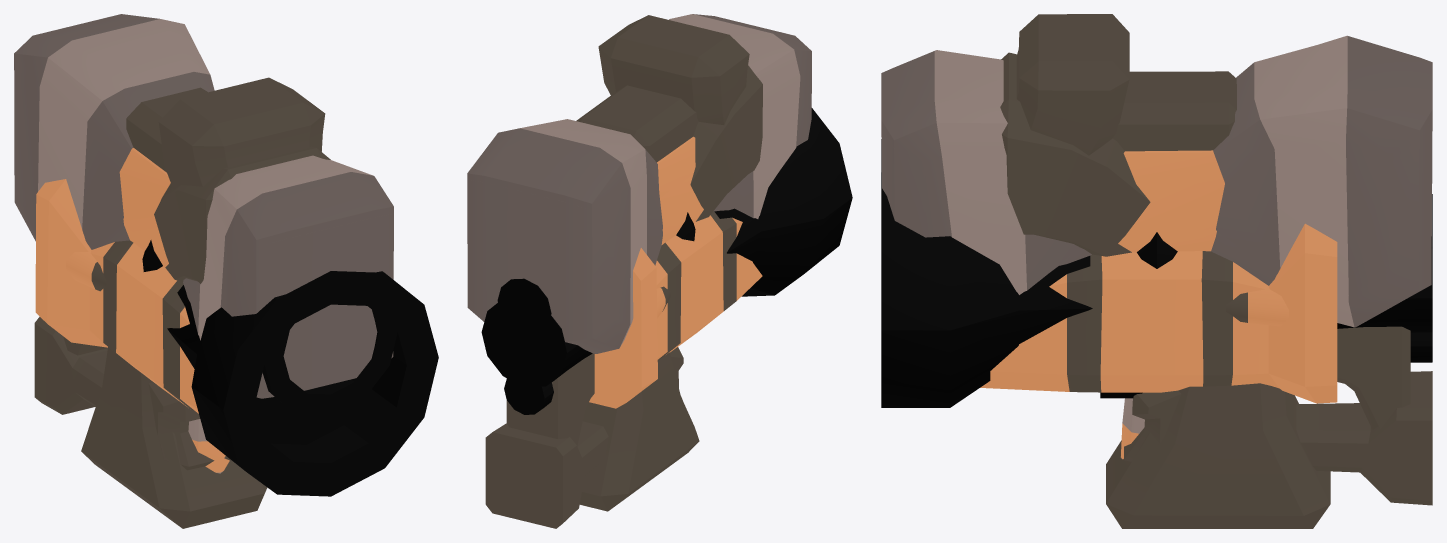
Rendered from GunParts.fbx.
The picture shows the model from 3 angles, left to right: view 1: azimuth 30°, elevation 25°; view 2: azimuth 150°, elevation 25°; view 3: azimuth 270°, elevation 25°; orthographic projection. The views are drawn at different scales.
Visible parts, largest first — view 1: MidGrip, SingleBarrel, Grip, BigGrip, Mag, DoubleBarrel, RibGrip, RoundMag; view 2: MidGrip, Grip, BigGrip, SingleBarrel, Mag, RibGrip, DoubleBarrel; view 3: MidGrip, Grip, Mag, SingleBarrel, BigGrip, RibGrip, RoundMag, DoubleBarrel, Scope.
Boxes of the visible parts, left/top/right/bottom form: MidGrip: left=14, top=14, right=393, bottom=414; SingleBarrel: left=167, top=271, right=438, bottom=496; Grip: left=81, top=77, right=330, bottom=528; BigGrip: left=14, top=61, right=393, bottom=473; Mag: left=35, top=179, right=198, bottom=414; DoubleBarrel: left=262, top=274, right=397, bottom=415; RibGrip: left=126, top=87, right=230, bottom=470; RoundMag: left=66, top=251, right=106, bottom=291; MidGrip: left=467, top=14, right=811, bottom=528; Grip: left=579, top=15, right=762, bottom=511; BigGrip: left=467, top=59, right=811, bottom=445; SingleBarrel: left=481, top=108, right=852, bottom=387; Mag: left=589, top=211, right=762, bottom=408; RibGrip: left=576, top=85, right=698, bottom=387; DoubleBarrel: left=497, top=278, right=553, bottom=414; MidGrip: left=881, top=35, right=1432, bottom=505; Grip: left=1000, top=14, right=1330, bottom=528; Mag: left=980, top=223, right=1337, bottom=403; SingleBarrel: left=881, top=139, right=1432, bottom=407; BigGrip: left=881, top=117, right=1432, bottom=459; RibGrip: left=1113, top=71, right=1236, bottom=465; RoundMag: left=1226, top=287, right=1288, bottom=326; DoubleBarrel: left=1100, top=194, right=1432, bottom=398; Scope: left=1137, top=232, right=1177, bottom=268.
Size of the model in its own units: 3.2 by 6.18 by 6.54.
